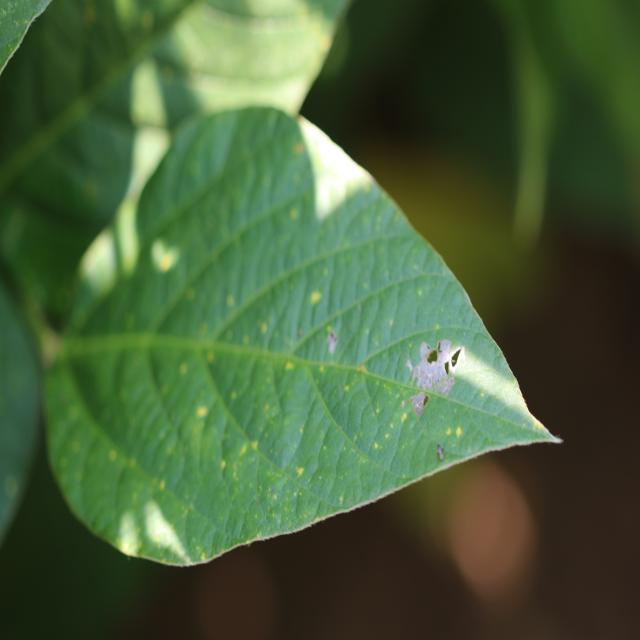Soybean: (0, 0, 562, 571)
downey_mildew: (310, 313, 422, 443), (140, 355, 234, 484), (212, 223, 301, 321), (246, 458, 305, 520), (235, 297, 290, 347), (152, 239, 177, 271), (325, 328, 339, 352)
